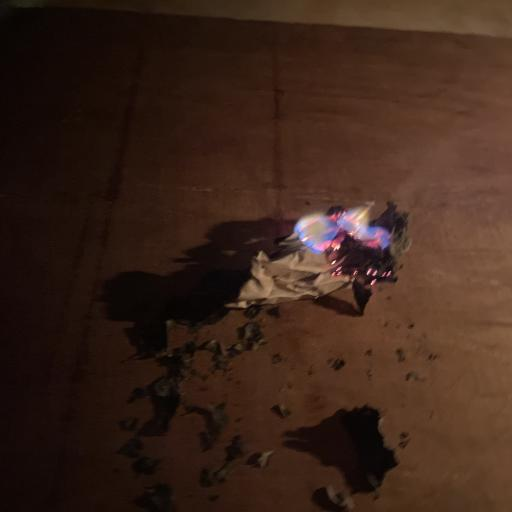fire: (294, 201, 408, 286)
